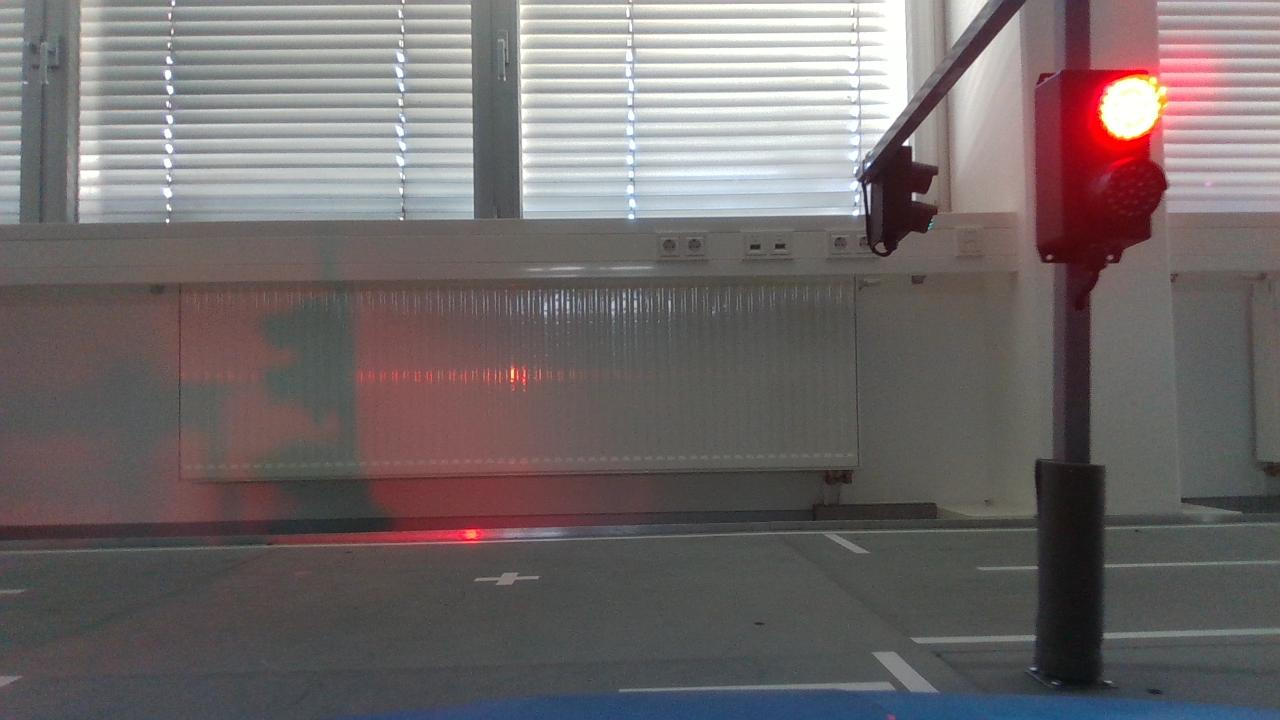traffic_light_red: (1019, 58, 1182, 283)
